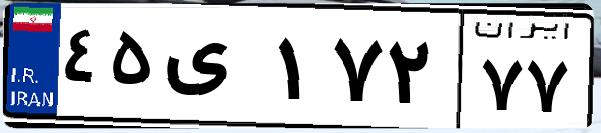1: (270, 28, 330, 110)
2: (385, 28, 445, 110)
4: (57, 26, 110, 100)
5: (110, 28, 158, 98)
7: (330, 28, 385, 110), (475, 38, 525, 113), (525, 38, 570, 115)
ی: (158, 20, 270, 120)
